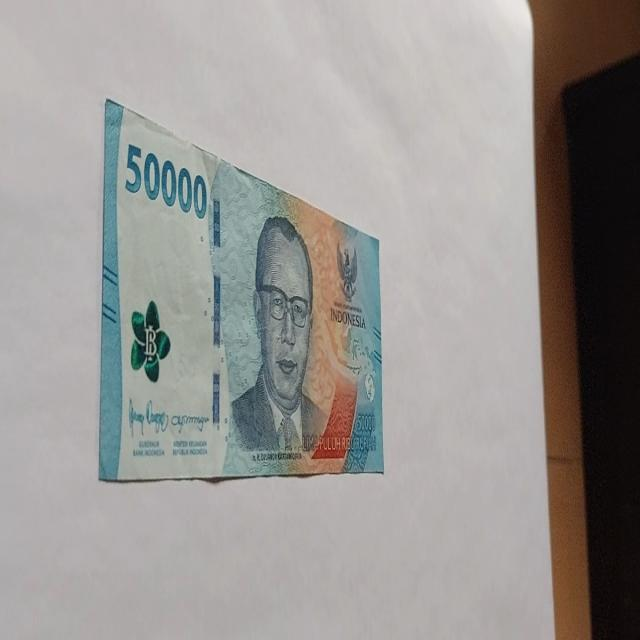lima puluh ribu rupiah: (98, 96, 384, 484), (222, 212, 330, 474), (124, 140, 208, 220)
